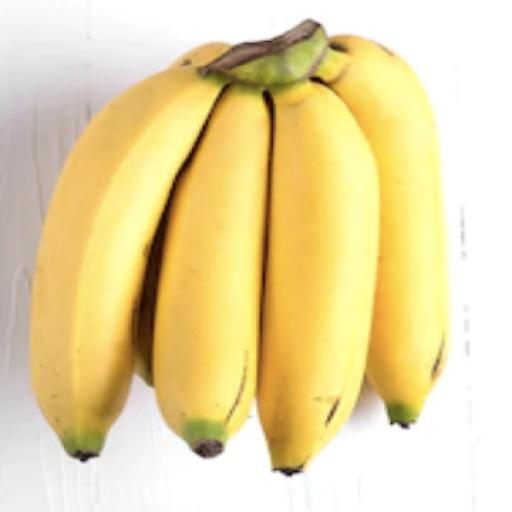banana: (30, 65, 224, 460), (318, 37, 449, 426), (258, 81, 378, 474), (154, 85, 270, 457), (134, 206, 169, 387), (134, 213, 166, 385)
